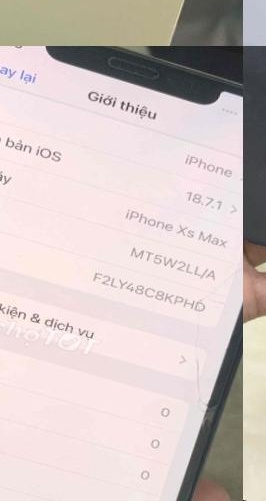physical_damage: (187, 233, 243, 314), (170, 376, 232, 442), (165, 280, 228, 340), (181, 331, 225, 387)
